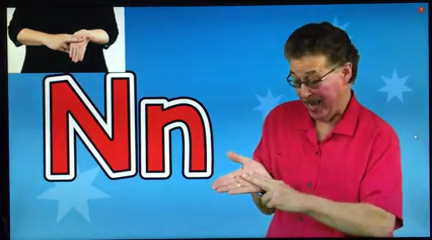N: (214, 148, 304, 216), (40, 28, 92, 66)
